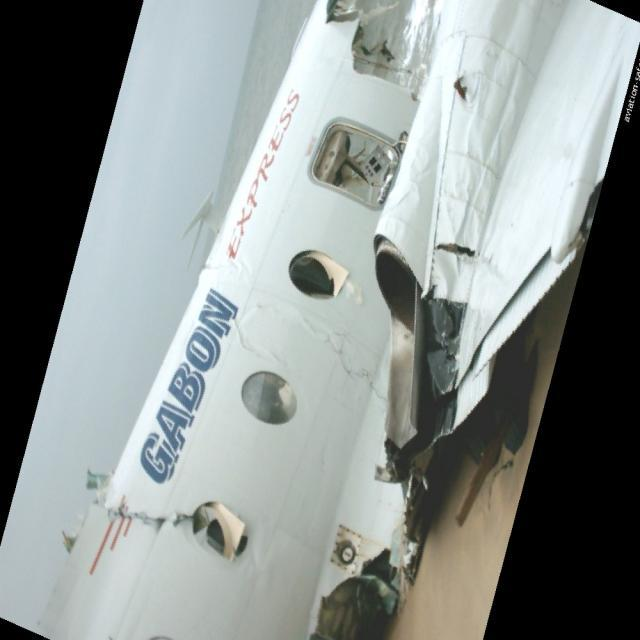crack: (293, 302, 387, 407), (99, 497, 198, 533), (438, 239, 480, 260), (454, 74, 473, 103)
